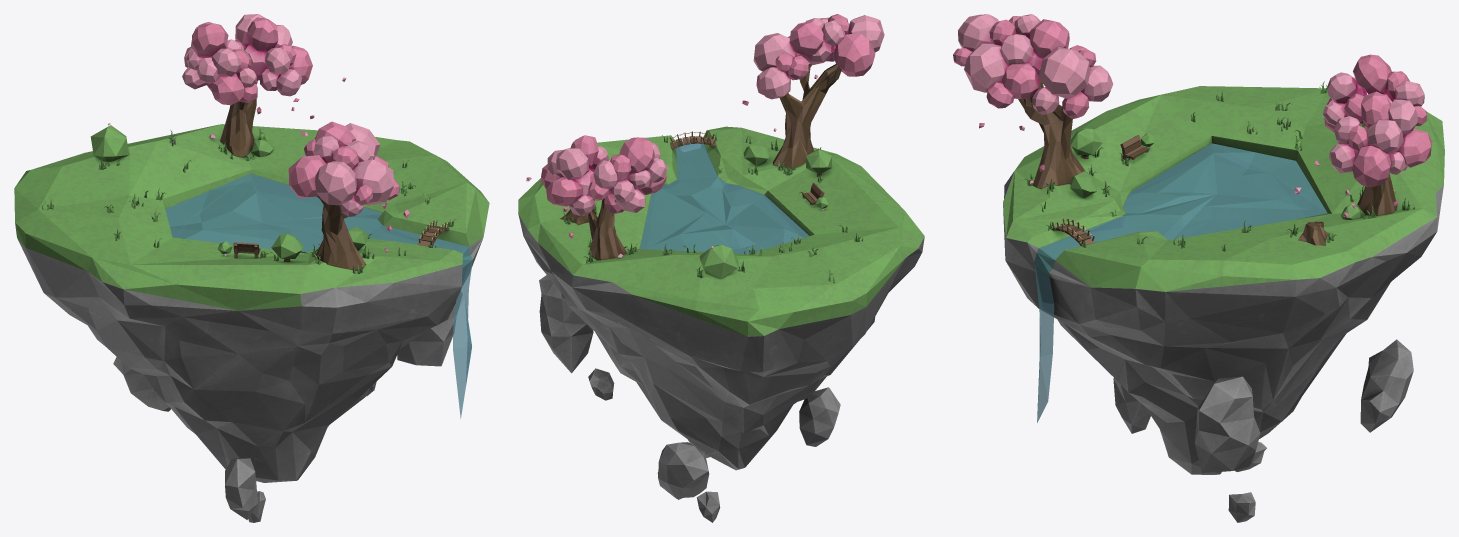
Rendered from floating_island.glb.
The picture shows the model from 3 angles, left to right: view 1: azimuth 30°, elevation 25°; view 2: azimuth 150°, elevation 25°; view 3: azimuth 270°, elevation 25°; orthographic projection. The views are drawn at different scales.
Parts seen in each view (by area): view 1: polySurface1, polySurface93, tree_lowpoly2:tree_1 (×7), tree_lowpoly2:group1 (×4), tree_lowpoly2:pCylinder2, pCube2, pCube1, pCube3, kust, kust1; view 2: polySurface1, polySurface93, tree_lowpoly2:tree_1 (×6), tree_lowpoly2:group1 (×5), pCube2, tree_lowpoly2:pCylinder2, pCube3, pCube1, kust, pCube4, pCube5, kust1 (+1 smaller); view 3: polySurface1, polySurface93, tree_lowpoly2:tree_1 (×10), tree_lowpoly2:group1 (×7), pCube2, pCube3, tree_lowpoly2:pCylinder2, pCube1, kust1, pCube5, kust2.
Boxes of the visible parts, left/top/right/bottom form: polySurface1: left=14, top=124, right=489, bottom=482; polySurface93: left=165, top=173, right=472, bottom=419; tree_lowpoly2:tree_1 (×7): left=191, top=17, right=302, bottom=157; tree_lowpoly2:group1 (×4): left=288, top=121, right=394, bottom=205; tree_lowpoly2:pCylinder2: left=315, top=195, right=365, bottom=270; pCube2: left=397, top=292, right=462, bottom=366; pCube1: left=225, top=458, right=257, bottom=519; pCube3: left=113, top=357, right=170, bottom=411; kust: left=90, top=125, right=129, bottom=161; kust1: left=271, top=234, right=303, bottom=261; polySurface1: left=518, top=126, right=924, bottom=470; polySurface93: left=640, top=141, right=809, bottom=254; tree_lowpoly2:tree_1 (×6): left=546, top=135, right=654, bottom=260; tree_lowpoly2:group1 (×5): left=753, top=15, right=884, bottom=99; pCube2: left=539, top=275, right=593, bottom=373; tree_lowpoly2:pCylinder2: left=773, top=63, right=841, bottom=168; pCube3: left=657, top=442, right=709, bottom=499; pCube1: left=799, top=387, right=840, bottom=446; kust: left=699, top=245, right=738, bottom=278; pCube4: left=588, top=368, right=614, bottom=400; pCube5: left=696, top=491, right=720, bottom=522; kust1: left=806, top=148, right=831, bottom=176; polySurface1: left=1003, top=86, right=1444, bottom=474; polySurface93: left=1034, top=143, right=1327, bottom=422; tree_lowpoly2:tree_1 (×10): left=1327, top=54, right=1431, bottom=215; tree_lowpoly2:group1 (×7): left=958, top=14, right=1113, bottom=101; pCube2: left=1194, top=376, right=1260, bottom=472; pCube3: left=1360, top=339, right=1413, bottom=432; tree_lowpoly2:pCylinder2: left=1018, top=72, right=1085, bottom=188; pCube1: left=1113, top=378, right=1150, bottom=433; kust1: left=1070, top=128, right=1102, bottom=158; pCube5: left=1228, top=492, right=1255, bottom=522; kust2: left=1070, top=171, right=1098, bottom=198.
Size of the model in its own units: 845 by 971 by 873.
2 materials, 2 textured.
